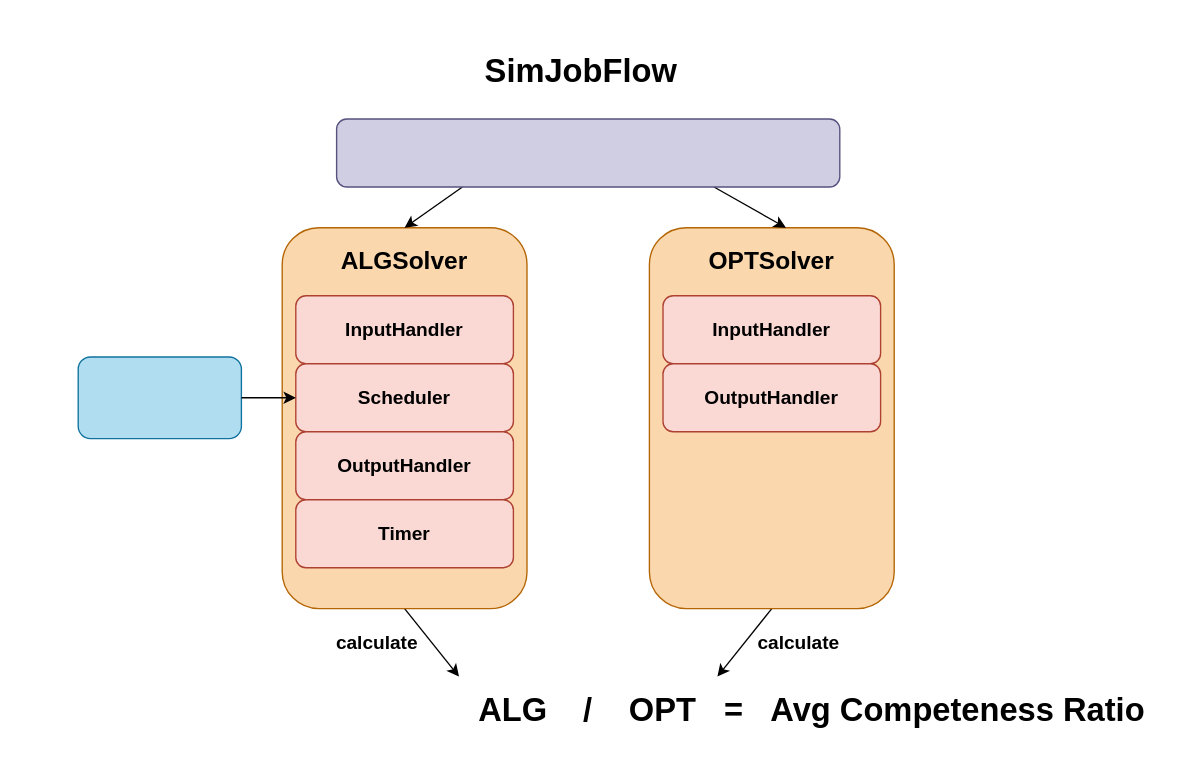
Some shapes in this 1202 by 781 pixel diagram are drawn without their labels. Each missing label, with the centre of its shape:
Machine model : Identical / Related / Unrelated: (587,152)
Release model : List / Real Time: (159,397)
